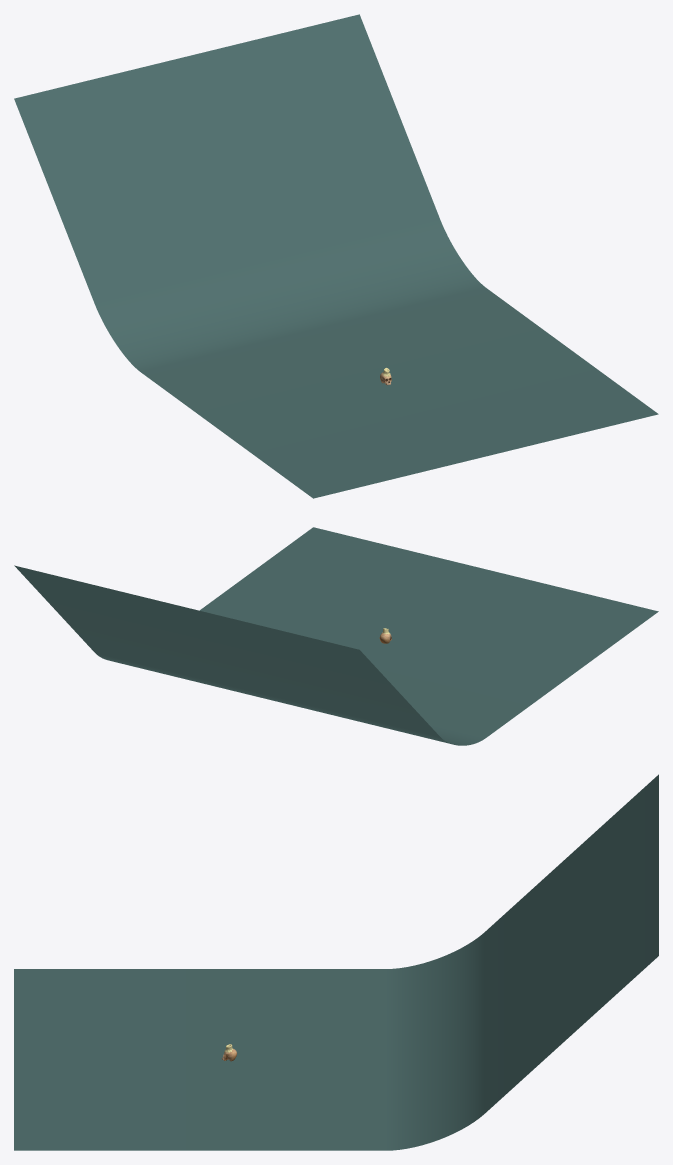
File: mainmenu.fbx
3 views of the same model, one above another, from view 1: azimuth 30°, elevation 25°; view 2: azimuth 150°, elevation 25°; view 3: azimuth 270°, elevation 25° (orthographic). The views are drawn at different scales.
Visible parts, largest first — view 1: Plane; view 2: Plane; view 3: Plane.
Part boxes in pixels (x1,y1,x2,y2): Plane: [14, 14, 658, 498]; Plane: [14, 527, 658, 745]; Plane: [14, 774, 658, 1150].
Size of the model in its own units: 4000 by 2000 by 6000.
